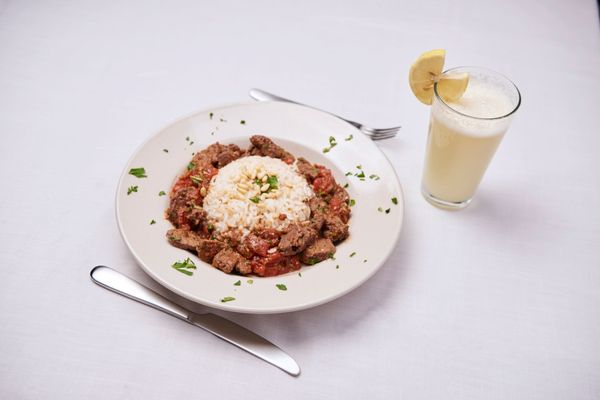burger: (249, 84, 403, 141)
pizza: (419, 66, 523, 211)
sandwich: (89, 263, 302, 374)
